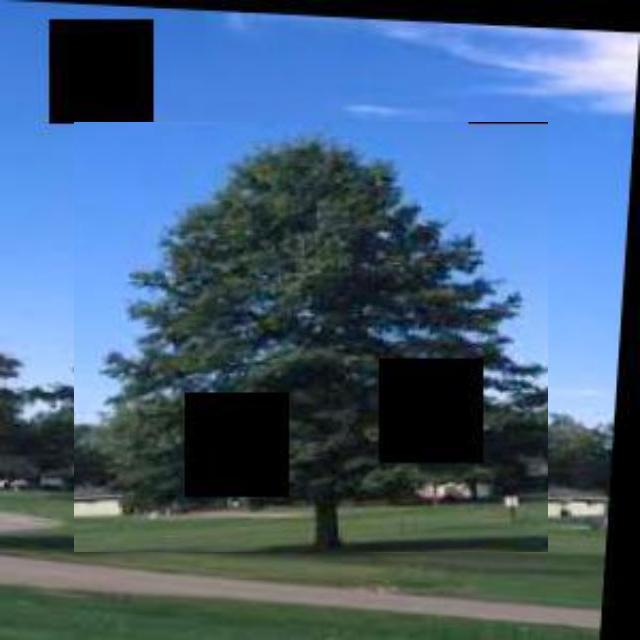tree: (74, 122, 548, 552)
